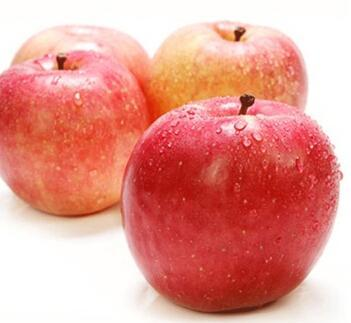apple: (118, 100, 338, 314), (1, 48, 149, 216), (147, 19, 308, 117)
